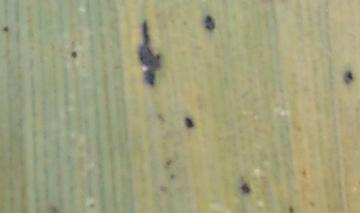tarspot: (136, 18, 160, 89), (201, 13, 216, 33), (341, 70, 354, 86), (183, 115, 194, 131), (155, 111, 166, 124), (238, 182, 249, 193), (47, 204, 60, 213), (86, 200, 96, 211), (300, 167, 308, 179), (69, 49, 78, 59), (168, 172, 177, 181), (1, 23, 9, 33), (162, 158, 172, 166), (287, 205, 294, 213), (307, 200, 315, 207)
